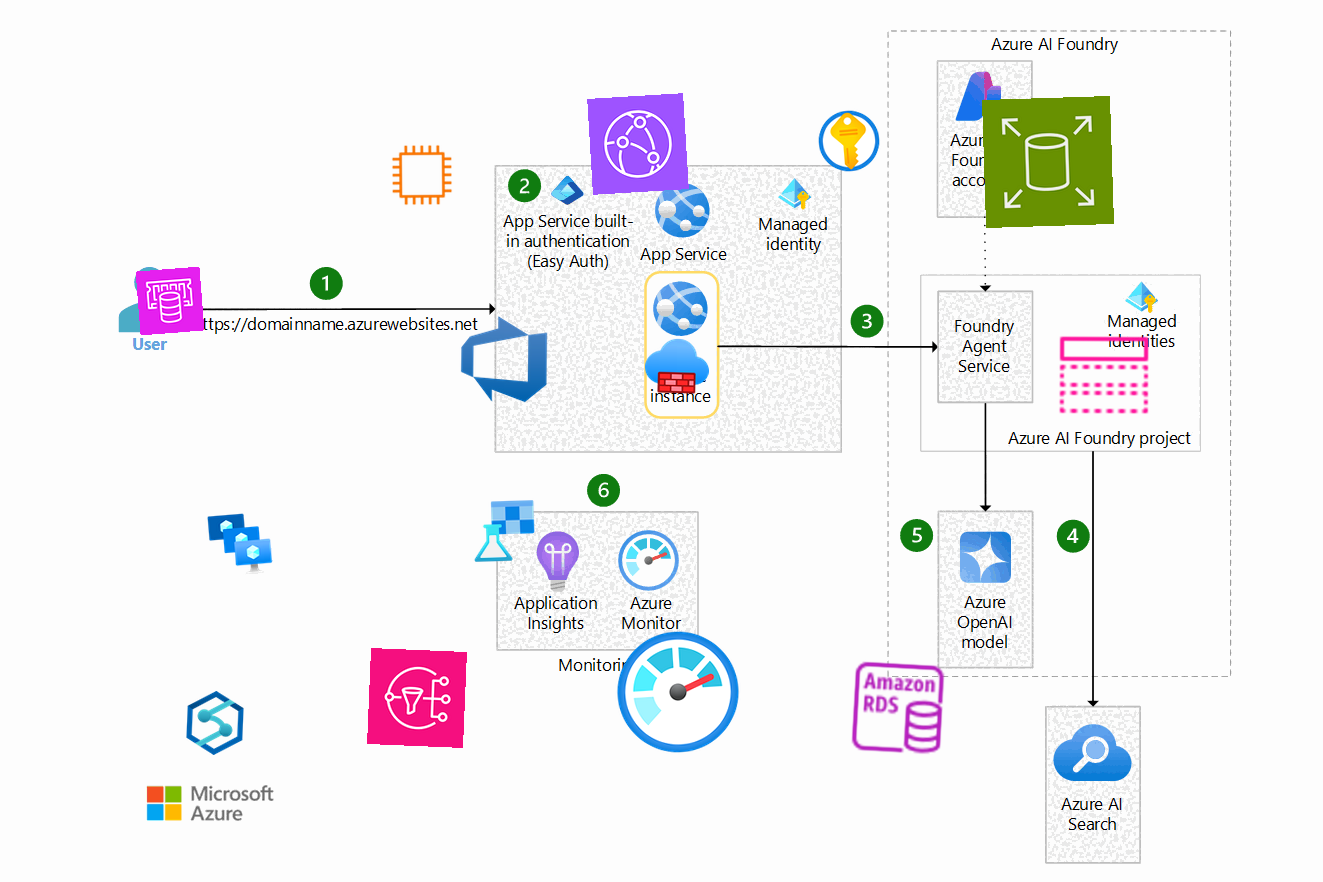aws_amazon_cloudfront: (587, 93, 689, 195)
aws_amazon_elastic_block_store: (981, 95, 1115, 229)
aws_amazon_elasticache: (135, 266, 205, 336)
aws_amazon_simple_notification_service: (367, 648, 467, 748)
aws_aurora_amazon_rds_instance: (847, 657, 949, 759)
aws_ec2_instance: (389, 142, 455, 208)
aws_simple_notification_service_topic: (1055, 326, 1153, 424)
azure_devops: (455, 310, 553, 408)
azure_firewalls: (644, 333, 710, 399)
azure_key_vaults: (814, 106, 884, 176)
azure_machine_learning_studio_workspaces: (470, 497, 538, 565)
azure_monitor: (610, 624, 746, 760)
azure_synapse_analytics: (181, 689, 249, 757)
azure_vm_scale_sets: (204, 508, 274, 578)
